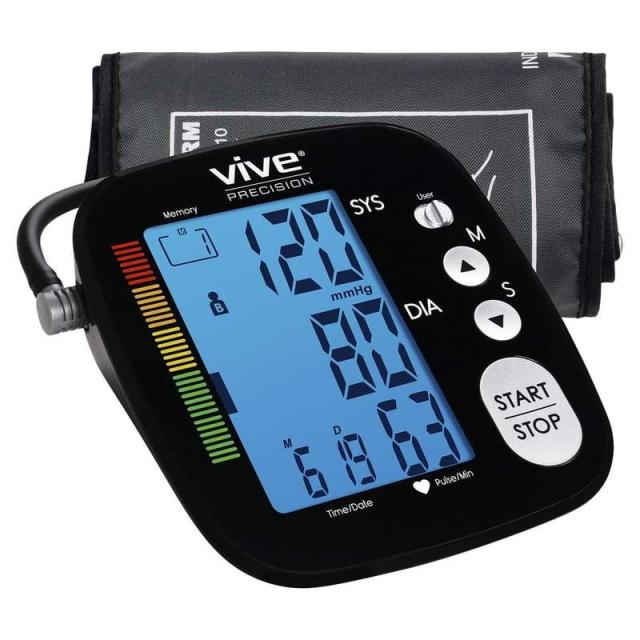dia: (301, 283, 427, 408)
pul: (362, 374, 471, 496)
ssd: (137, 143, 475, 550)
sys: (232, 191, 370, 303)
